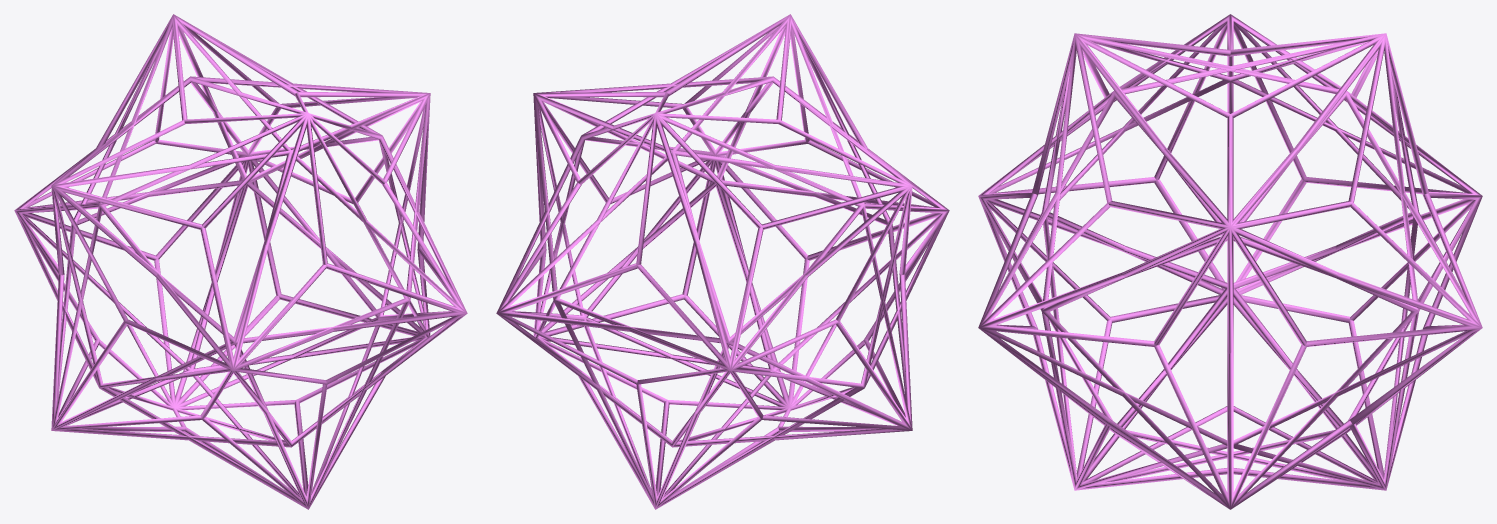
File: SmallDodecacronicHexecontahedron1.glb
The picture shows the model from 3 angles, left to right: view 1: azimuth 30°, elevation 25°; view 2: azimuth 150°, elevation 25°; view 3: azimuth 270°, elevation 25°; orthographic projection. The views are drawn at different scales.
Parts seen in each view (by area): view 1: SmallDodecacronicHexecontahedron; view 2: SmallDodecacronicHexecontahedron; view 3: SmallDodecacronicHexecontahedron.
Part boxes in pixels (x1,y1,x2,y2): SmallDodecacronicHexecontahedron: [14, 14, 467, 509]; SmallDodecacronicHexecontahedron: [496, 14, 949, 509]; SmallDodecacronicHexecontahedron: [978, 14, 1482, 509].
Bounding box in the file's own units: 5.3 × 5.3 × 5.3.
